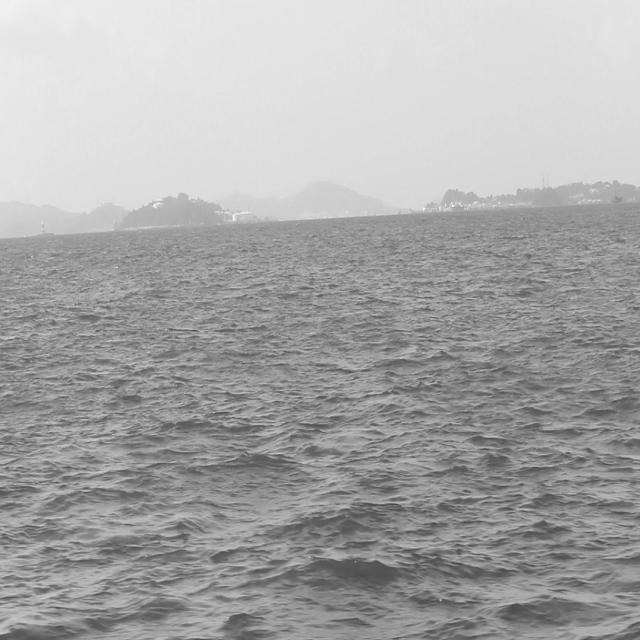buoy: (32, 221, 55, 241)
